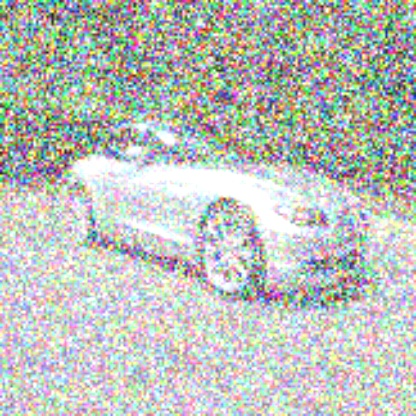Vehicle: (62, 113, 374, 301)
